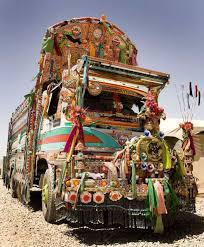truck: (5, 15, 169, 236)
